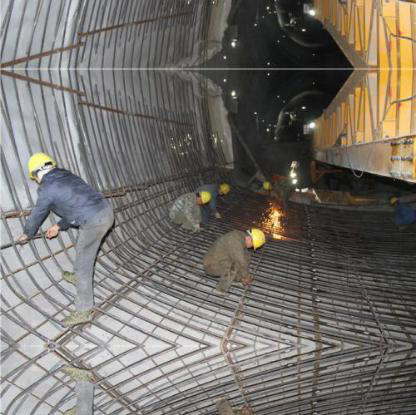helmet: (25, 149, 55, 181), (243, 225, 267, 249), (194, 188, 213, 206), (216, 181, 235, 198), (260, 179, 277, 192), (387, 194, 402, 208)
